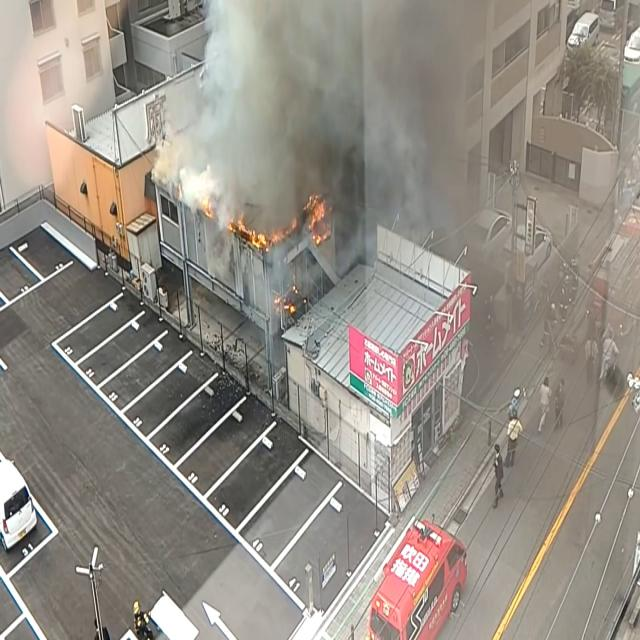Fire: (231, 215, 279, 253), (304, 187, 332, 249)
Smoke: (167, 0, 494, 252)
